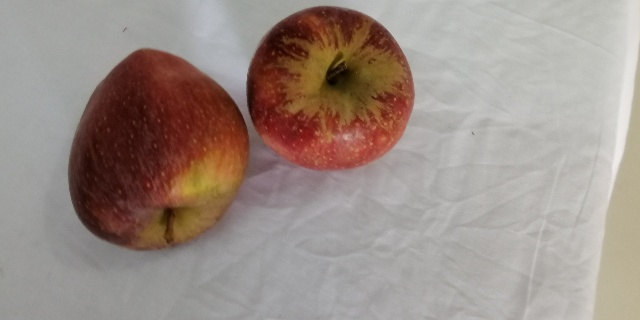apple_kashmir: (68, 50, 252, 250), (246, 8, 413, 166)
